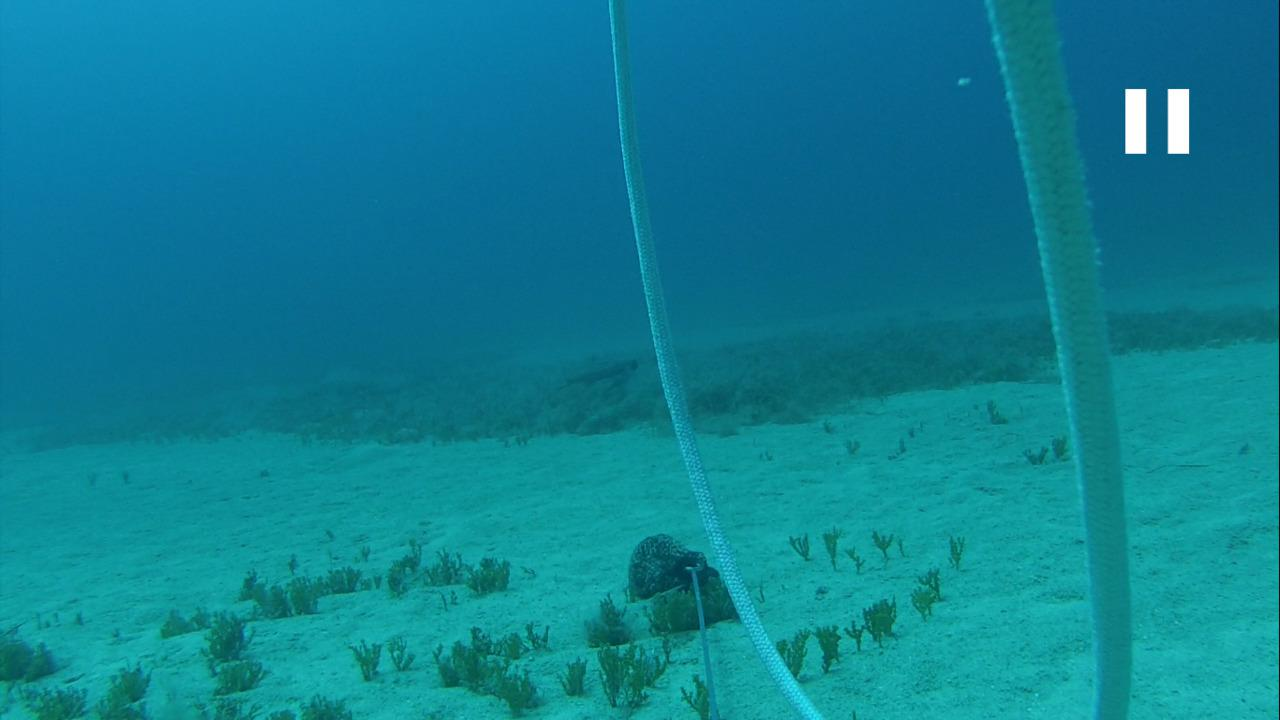dactylopterus: (562, 355, 636, 397)
